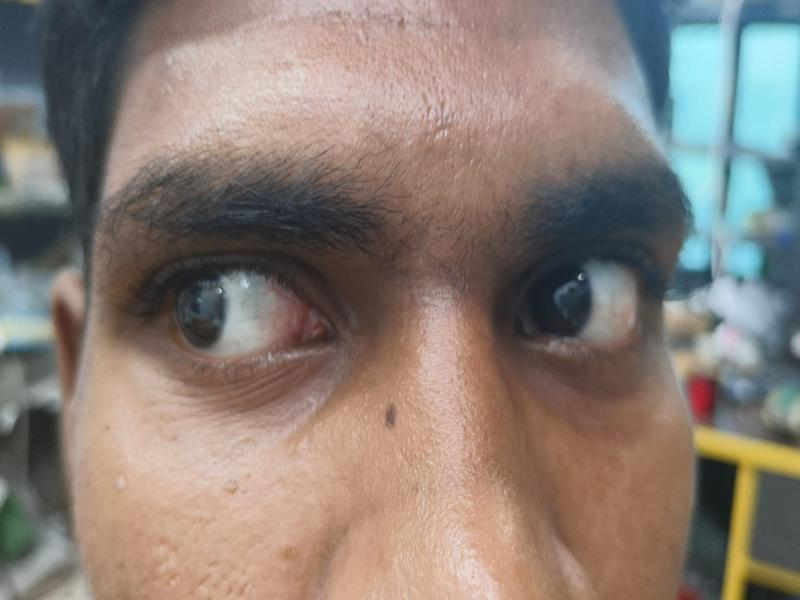EYE RIGHT: (165, 268, 317, 354), (525, 257, 667, 342)
